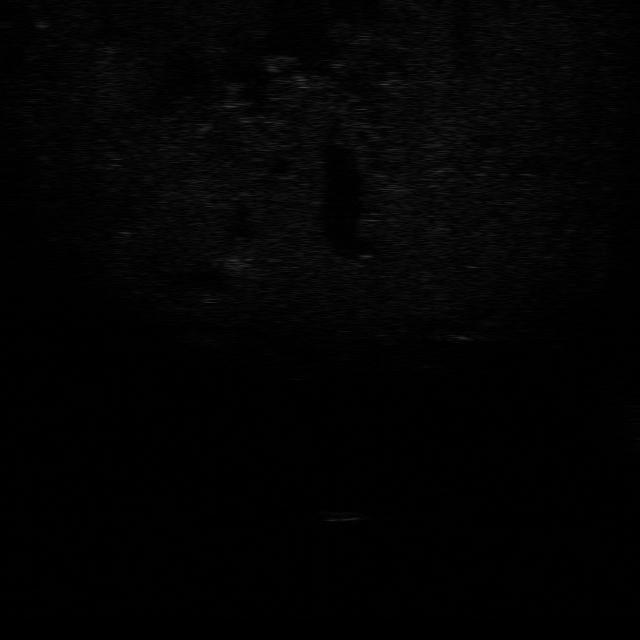cube: (319, 508, 365, 522)
square cage: (432, 326, 482, 343)
